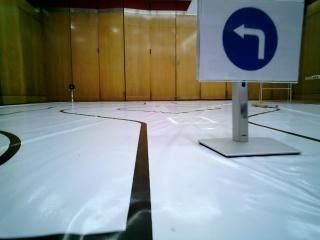left: (202, 3, 301, 81)
